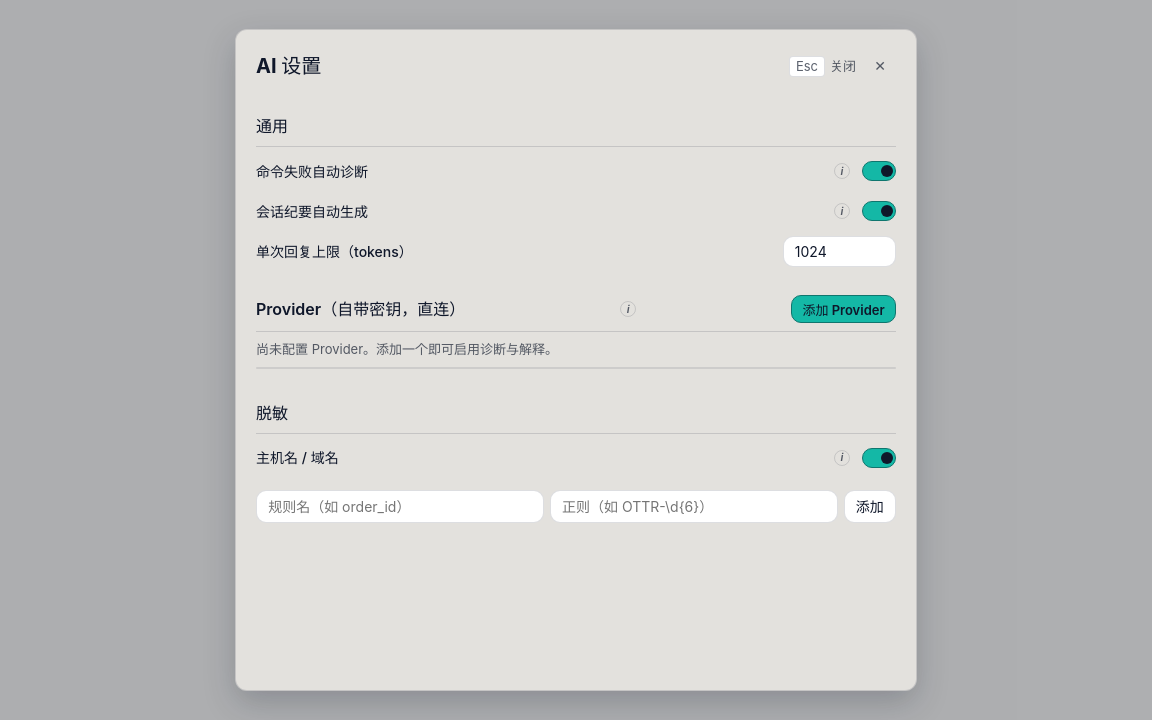
Test case: provider 列表与 CRUD › 表单 kind 选 Mock：不自动填 baseURL（测试端点地址显式给）
This screenshot has width=1152, height=720.
Click the button with test id "ai-add-provider" at (844, 309), box [791,295,896,323]
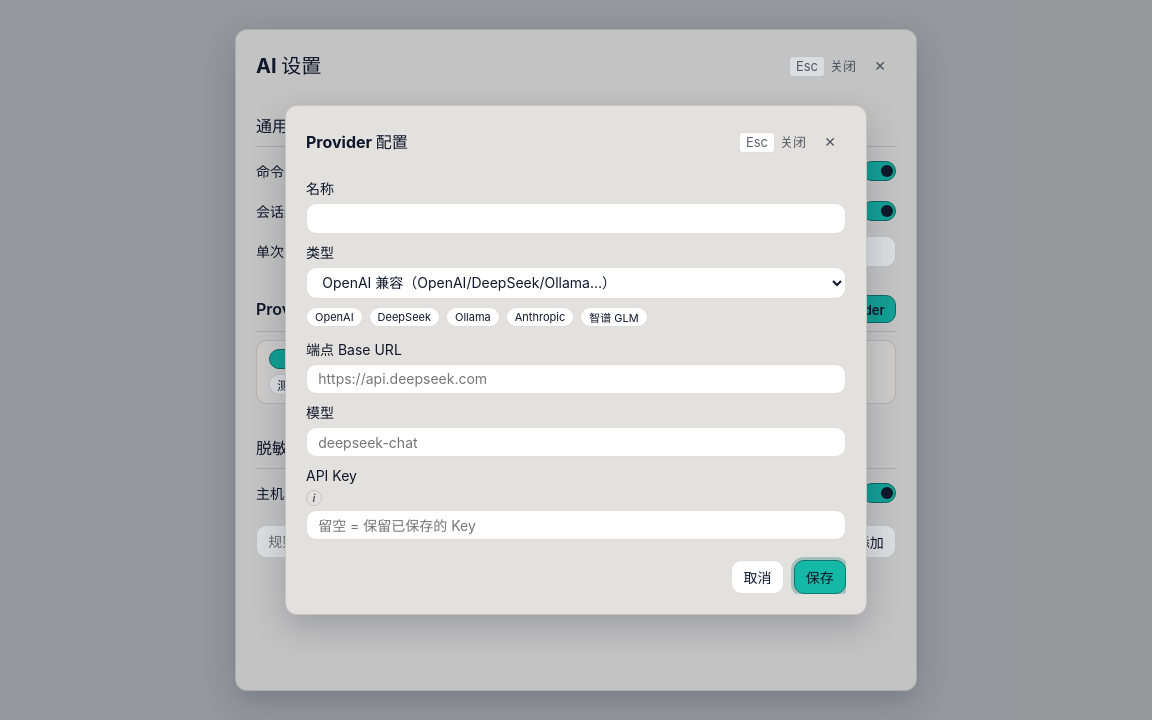
Select "Mock（测试端点）" in the dropdown with test id "ai-field-kind" at (576, 283), box [306,267,846,299]
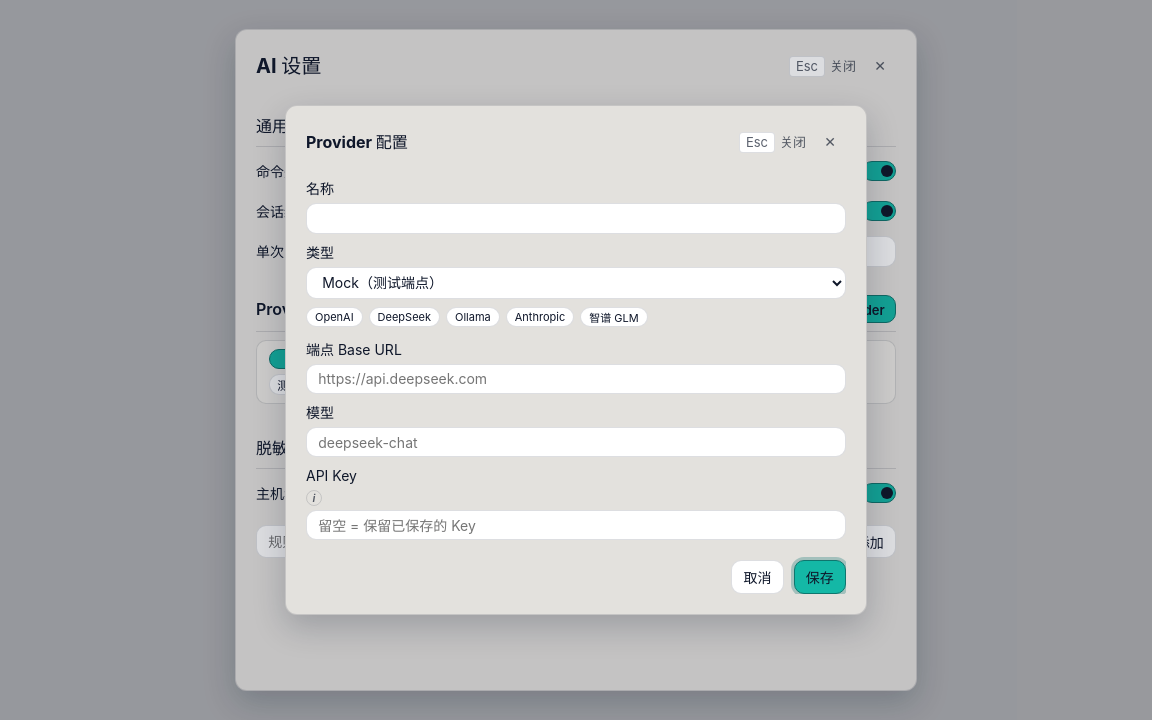
Expected: the field with test id "ai-field-baseurl" is empty, [306,364,846,394]
// 对照：切回 openai 兼容自动填官方端点（既有行为不回归）
Select "OpenAI 兼容（OpenAI/DeepSeek/Ollama…）" in the dropdown with test id "ai-field-kind" at (576, 283), box [306,267,846,299]
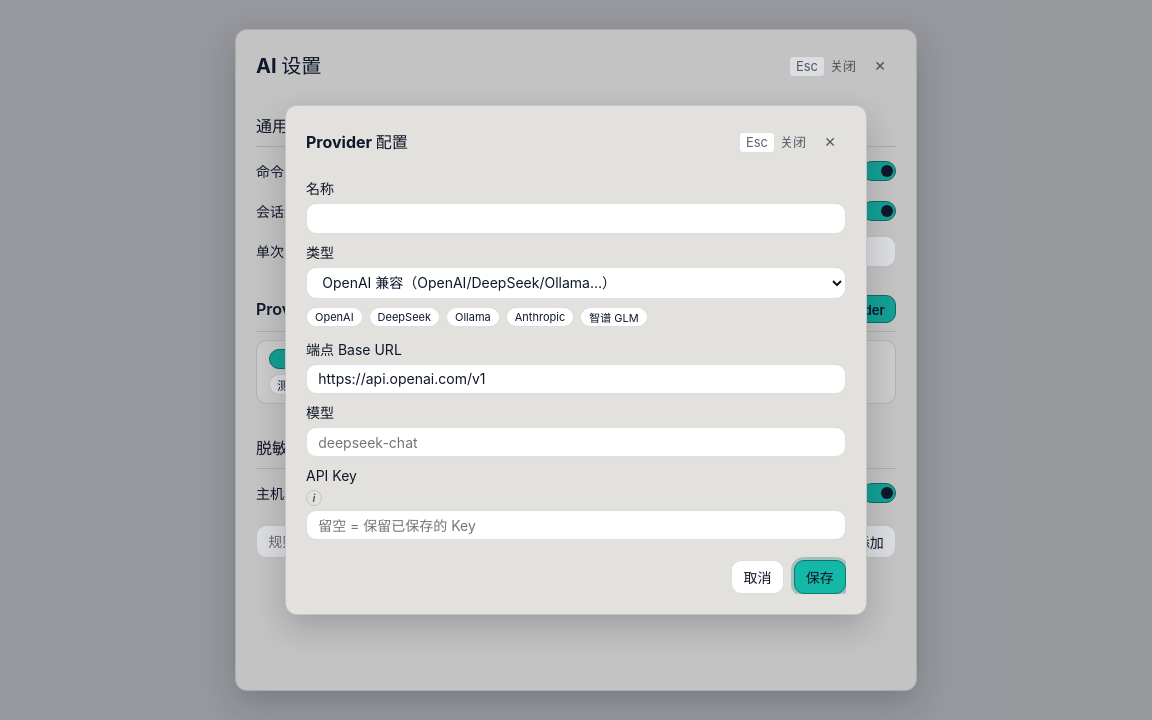
Expected: the field with test id "ai-field-baseurl" is not empty, [306,364,846,394]
